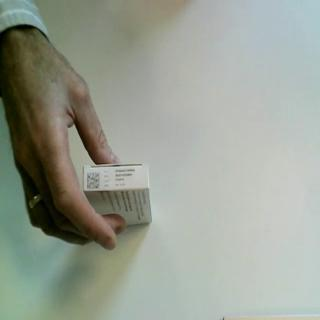oxycontin15mg: (82, 163, 154, 229)
